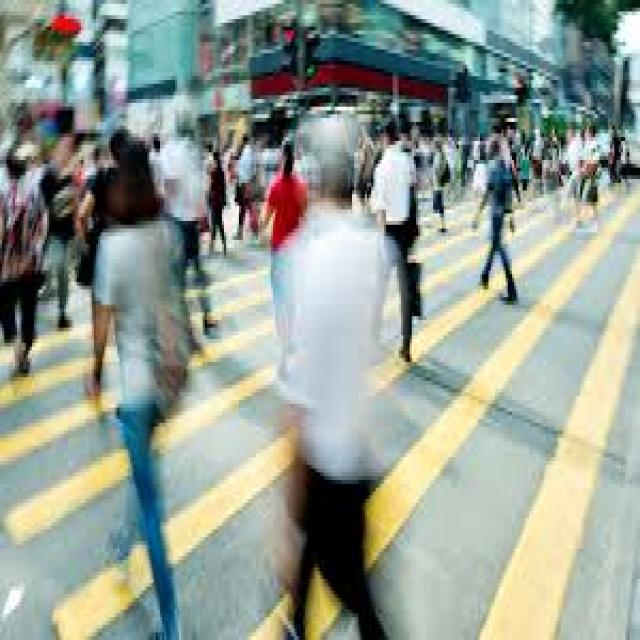Pedestrians: (275, 118, 403, 636), (83, 134, 194, 636), (478, 138, 520, 312)
